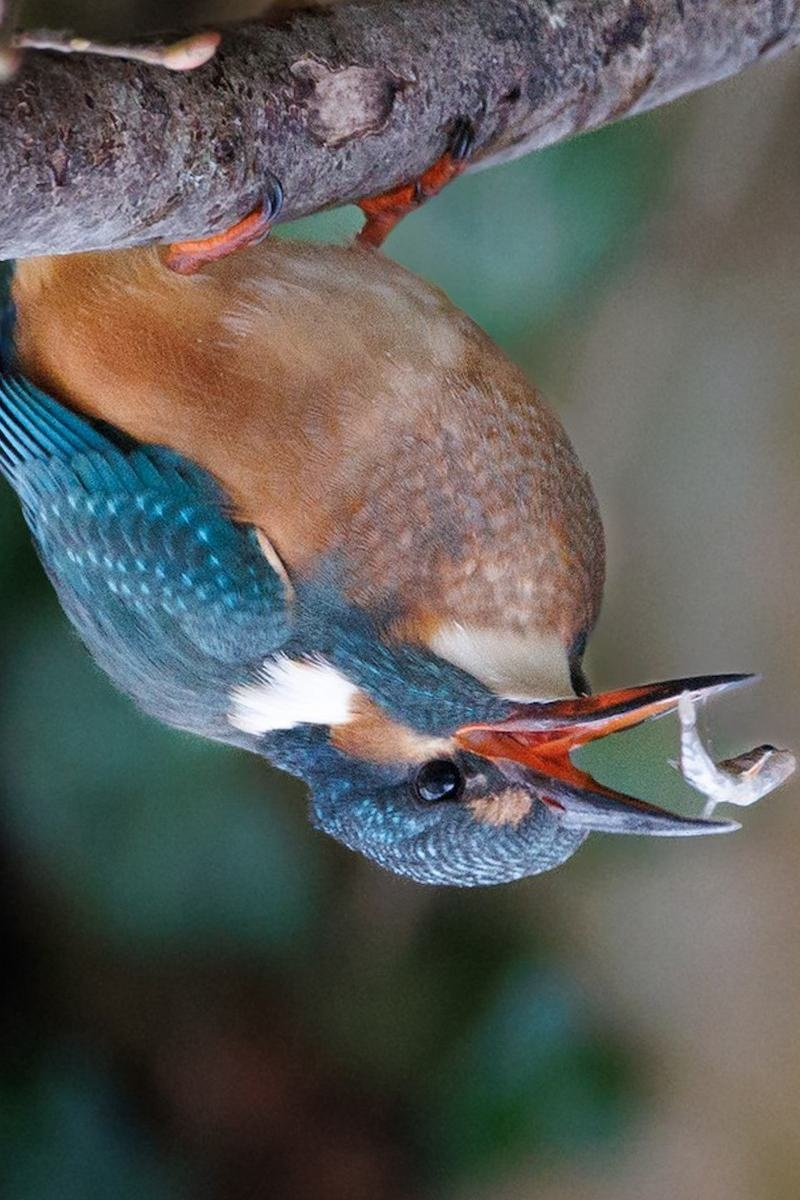kingfisher: (2, 221, 755, 922)
